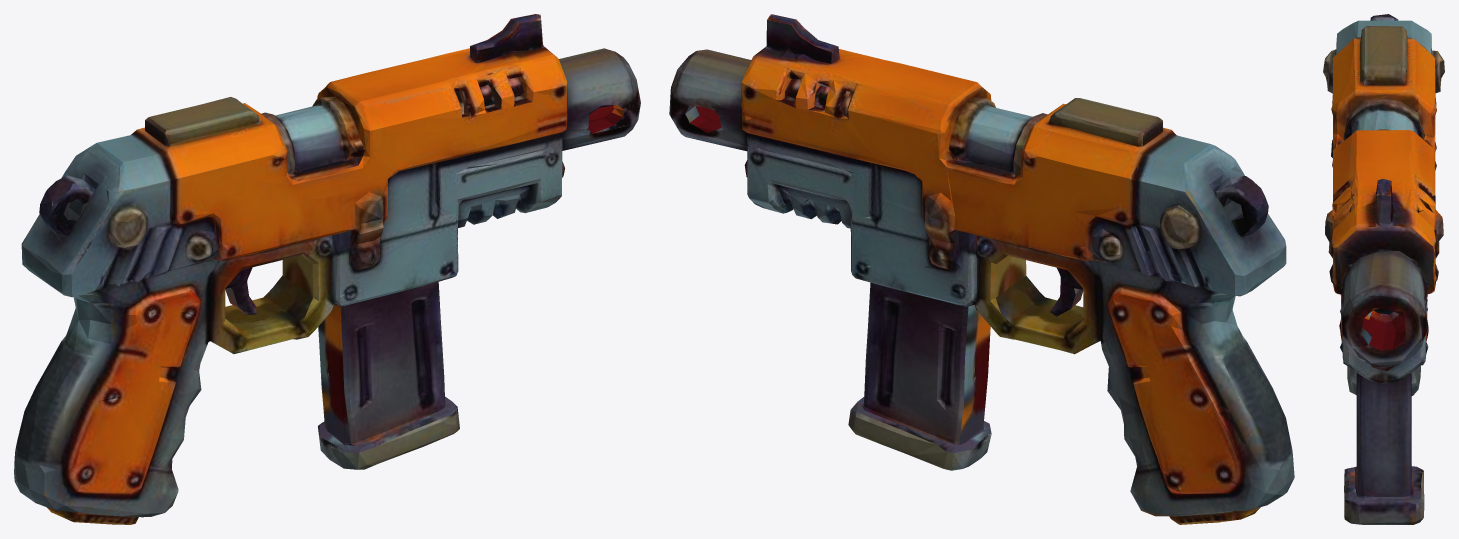
The model's file is hk-w-autoch-bolt-pistol.glb.
The picture shows the model from 3 angles, left to right: view 1: azimuth 30°, elevation 25°; view 2: azimuth 150°, elevation 25°; view 3: azimuth 270°, elevation 25°; orthographic projection.
Parts seen in each view (by area): view 1: tmp9kac2hst.ply; view 2: tmp9kac2hst.ply; view 3: tmp9kac2hst.ply.
Boxes of the visible parts, x1,y1,x2,y2 form: tmp9kac2hst.ply: (14,14,640,524); tmp9kac2hst.ply: (669,14,1294,524); tmp9kac2hst.ply: (1323,14,1444,524).
Size of the model in its own units: 0.45 by 0.2864 by 0.0796.
1 material, 1 textured.
